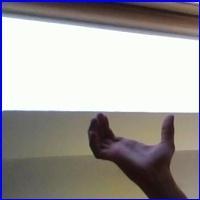space: (80, 107, 184, 180)
